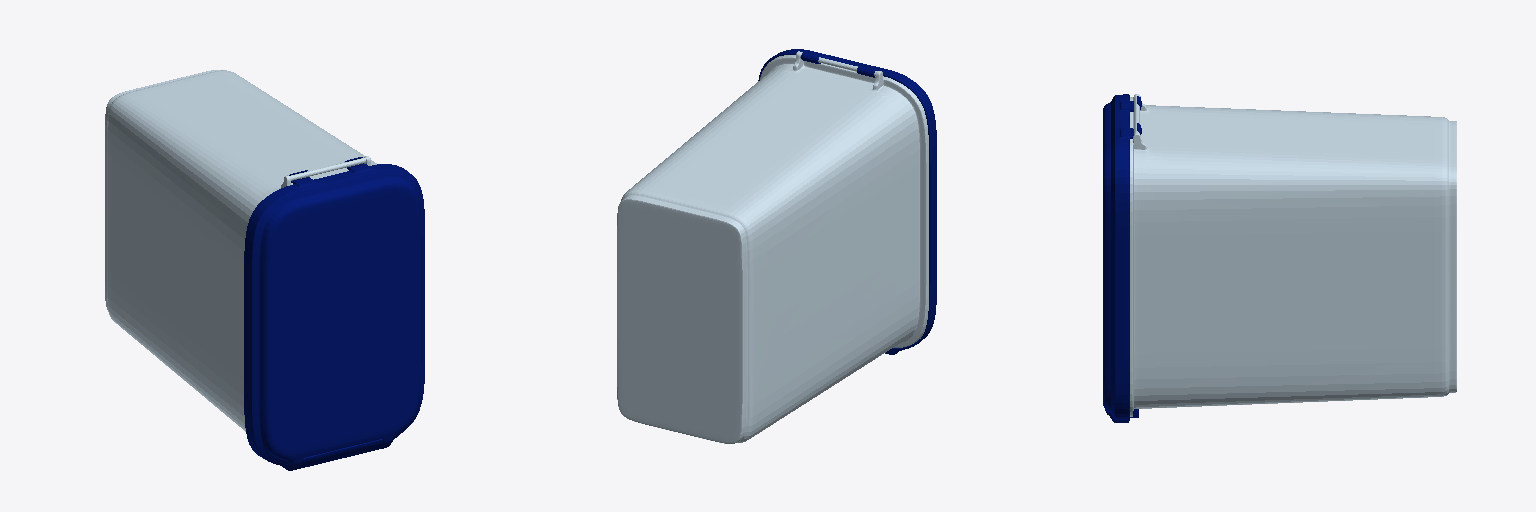
The model's file is 14047_Plastic_food_Storage_v1_L3.obj.
3 views of the same model, side by side, from view 1: azimuth 30°, elevation 25°; view 2: azimuth 150°, elevation 25°; view 3: azimuth 270°, elevation 25° (orthographic).
Parts seen in each view (by area): view 1: Plastic_food_Storage_Container_lid, Plastic_food_Storage_Container_body; view 2: Plastic_food_Storage_Container_body, Plastic_food_Storage_Container_lid; view 3: Plastic_food_Storage_Container_body, Plastic_food_Storage_Container_lid.
Part boxes in pixels (x1,y1,x2,y2): Plastic_food_Storage_Container_lid: (244, 157, 424, 470); Plastic_food_Storage_Container_body: (105, 70, 376, 431); Plastic_food_Storage_Container_body: (617, 51, 928, 443); Plastic_food_Storage_Container_lid: (758, 49, 936, 354); Plastic_food_Storage_Container_body: (1130, 94, 1456, 416); Plastic_food_Storage_Container_lid: (1103, 94, 1141, 422).
Bounding box in the file's own units: 9.85 × 15.37 × 17.3.